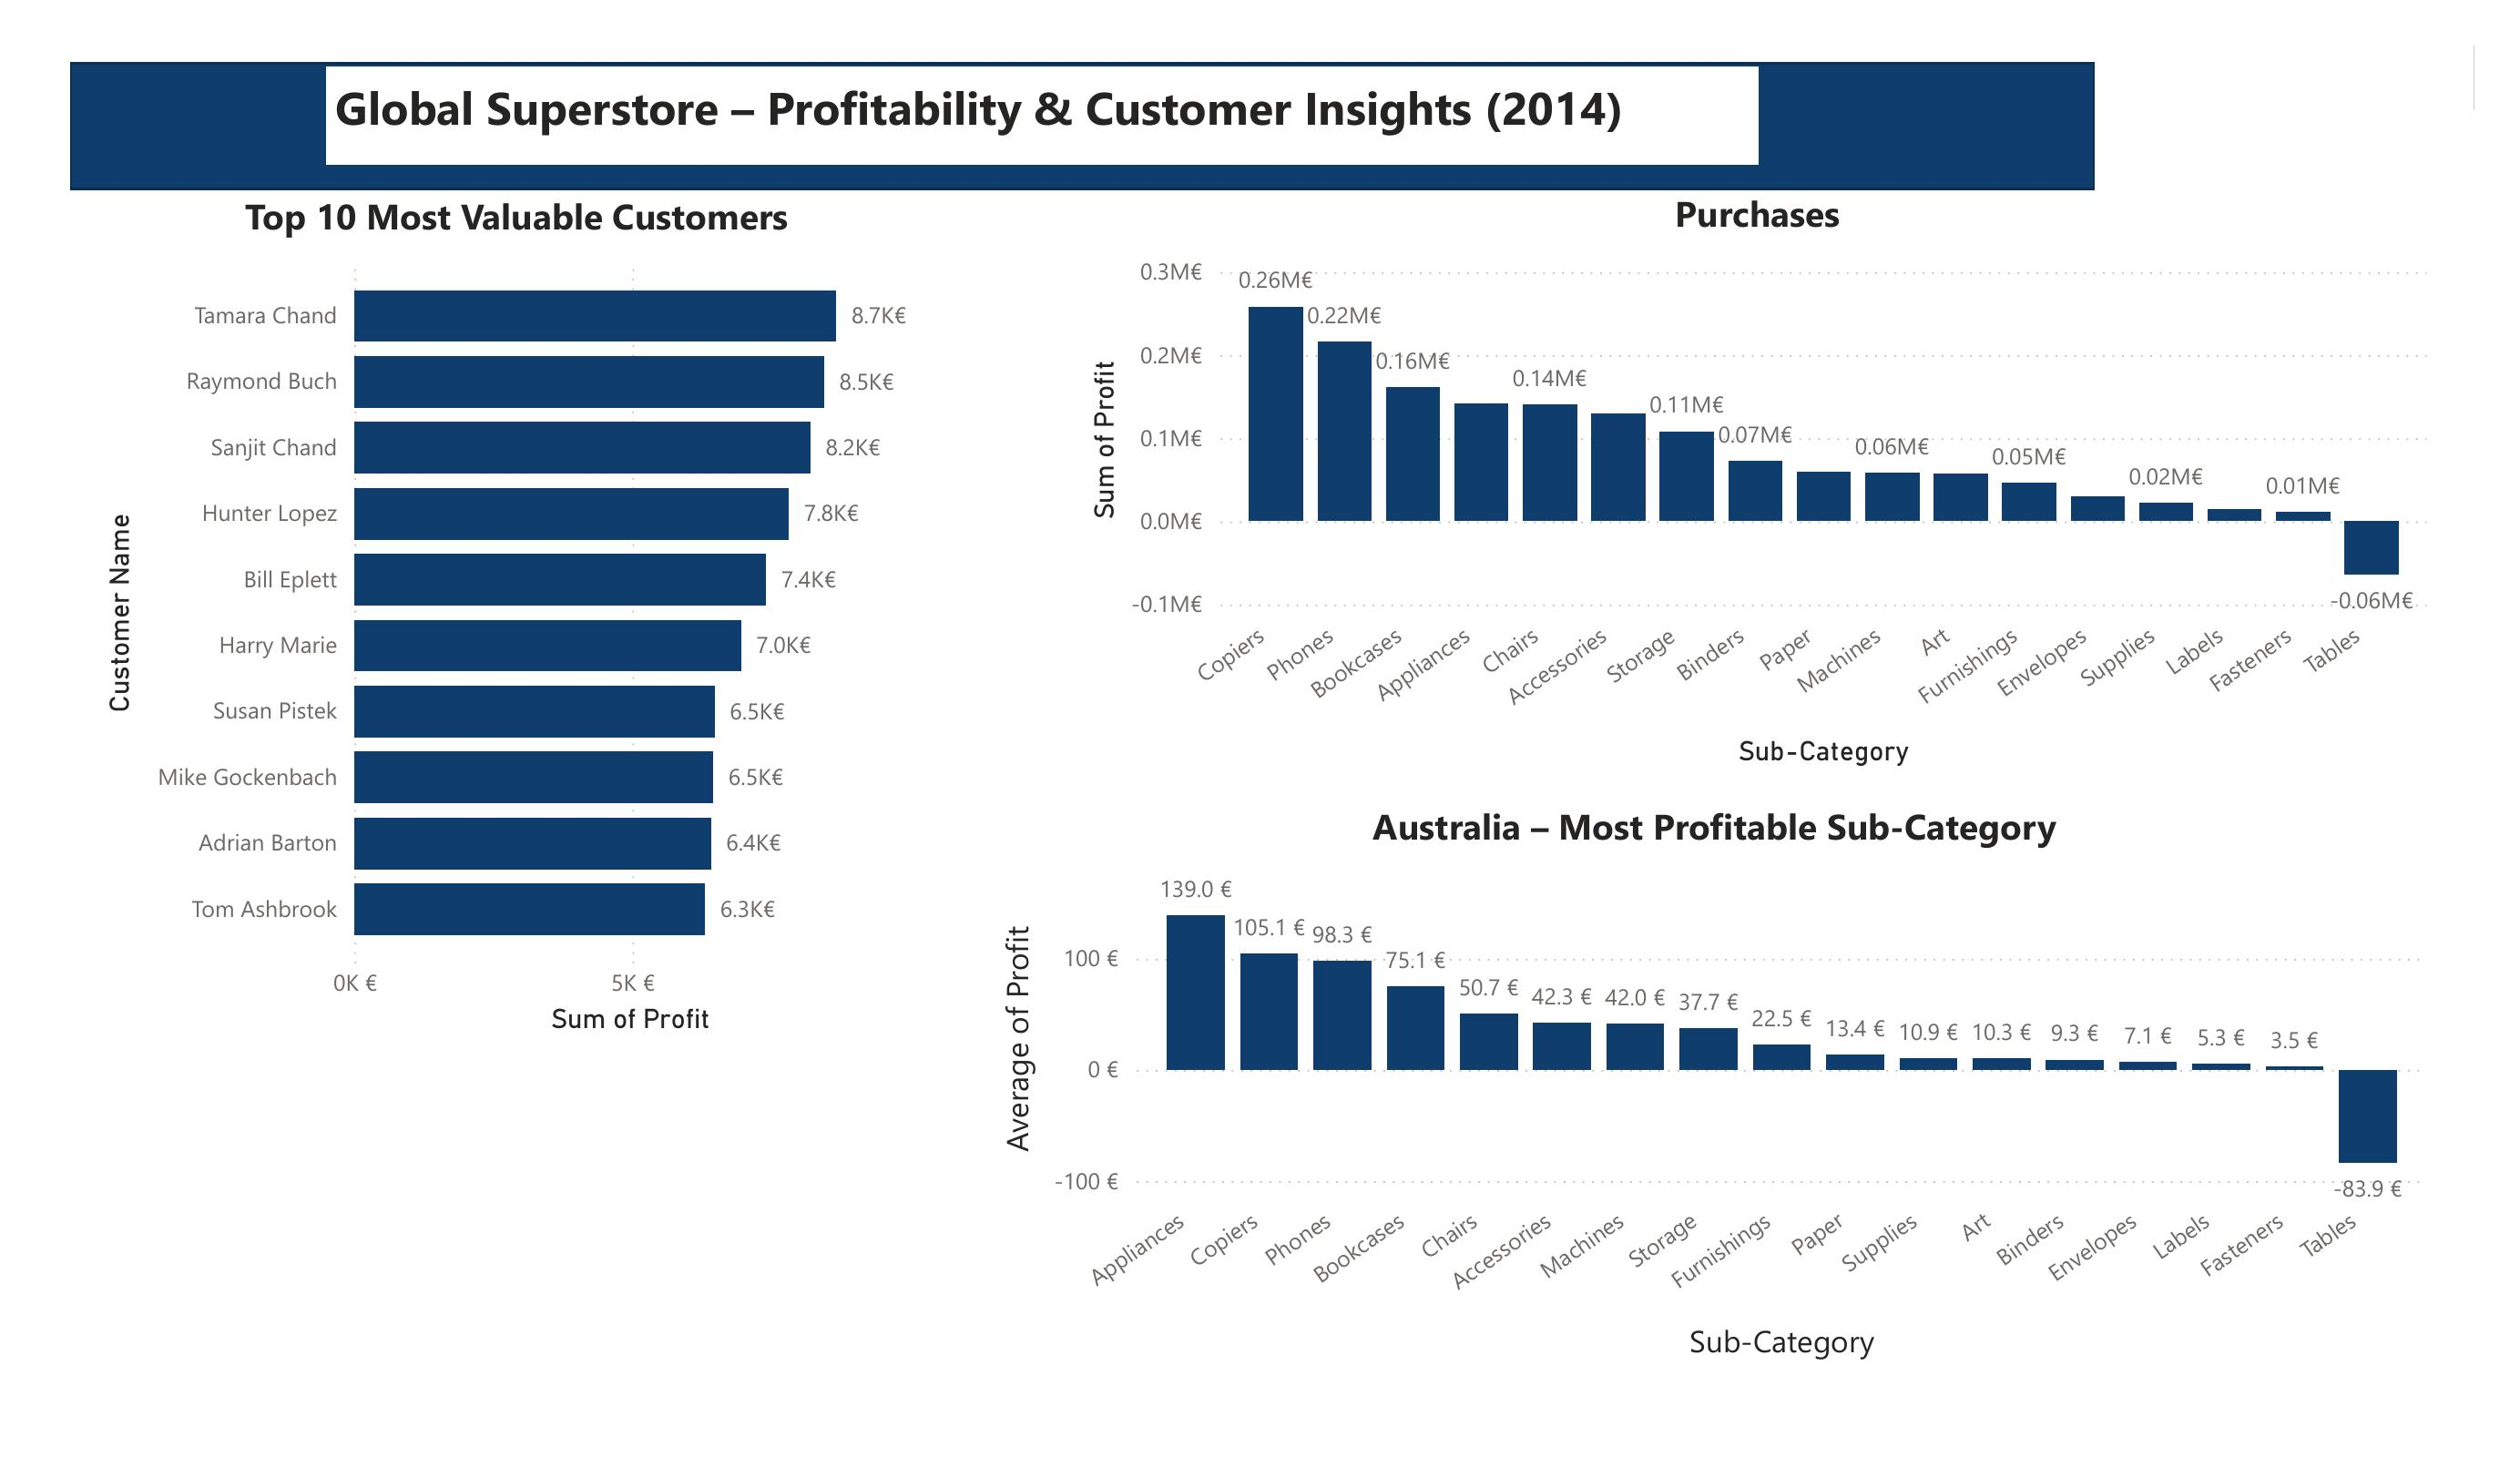

Layout of this report page (visuals, bound fields, positions):
{"tool":"powerbi","page":{"name":"Page 1","canvas":[1280,720],"ordinal":3},"visuals":[{"type":"clusteredBarChart","title":"Top 10  Most Valuable Customers","fields":{"Category":["Orders.Customer Name"],"Y":["Orders.Profit"]},"box":[25.6,76.8,445.2,449.4],"z":0},{"type":"clusteredColumnChart","title":"Purchases ","fields":{"Category":["Orders.Sub-Category"],"Y":["Orders.Profit"]},"box":[545,76.2,715,308.8],"z":1000},{"type":"shape","box":[12.5,8.8,1067.5,67.5],"z":2000},{"type":"textbox","box":[147.5,11.2,755,51.2],"z":3000},{"type":"clusteredColumnChart","title":" Australia – Most Profitable Sub-Category","fields":{"Category":["Orders.Sub-Category"],"Y":["Orders.Profit"]},"box":[500,398.8,760,298.8],"z":4000}]}

Visuals, with their boxes on the page's 1280x720 design canvas (x1, y1, x2, y2). These are canvas units, not pixel positions in the 2520x1457 screenshot, which may show the page scaled, cropped or inside an application window:
"Top 10  Most Valuable Customers" clusteredBarChart: detection(26, 77, 471, 526)
"Purchases " clusteredColumnChart: detection(545, 76, 1260, 385)
shape: detection(12, 9, 1080, 76)
textbox: detection(148, 11, 902, 62)
" Australia – Most Profitable Sub-Category" clusteredColumnChart: detection(500, 399, 1260, 698)
